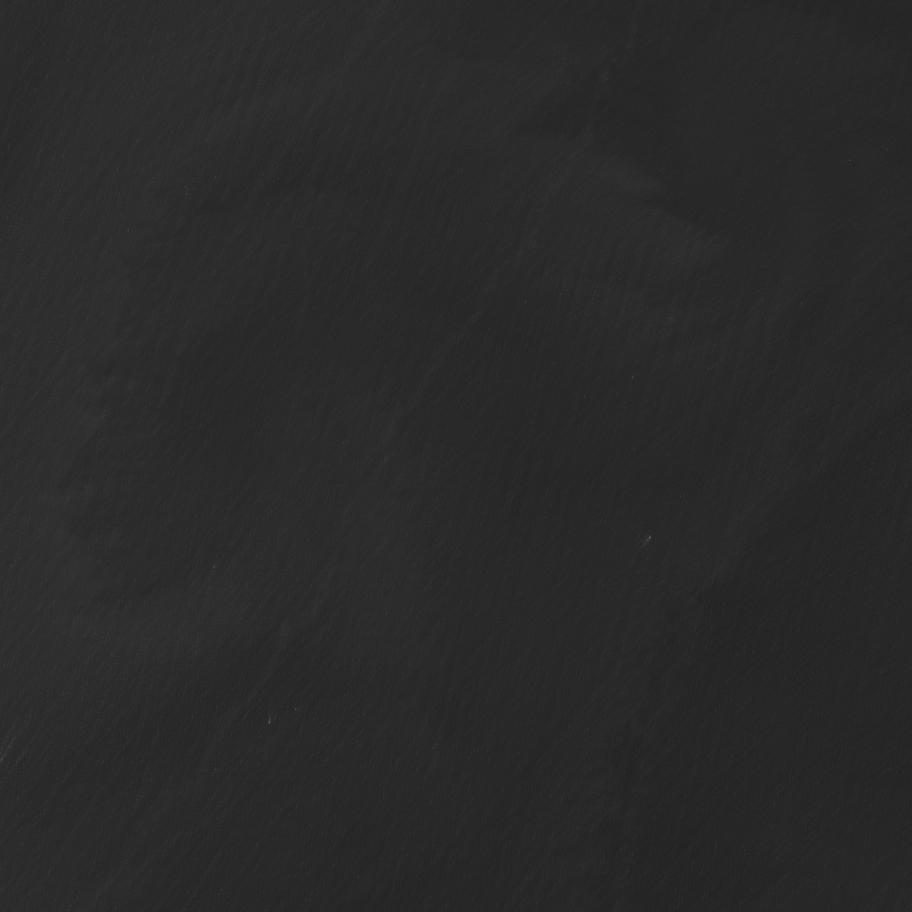ship: (646, 534, 652, 541), (268, 718, 270, 725)
